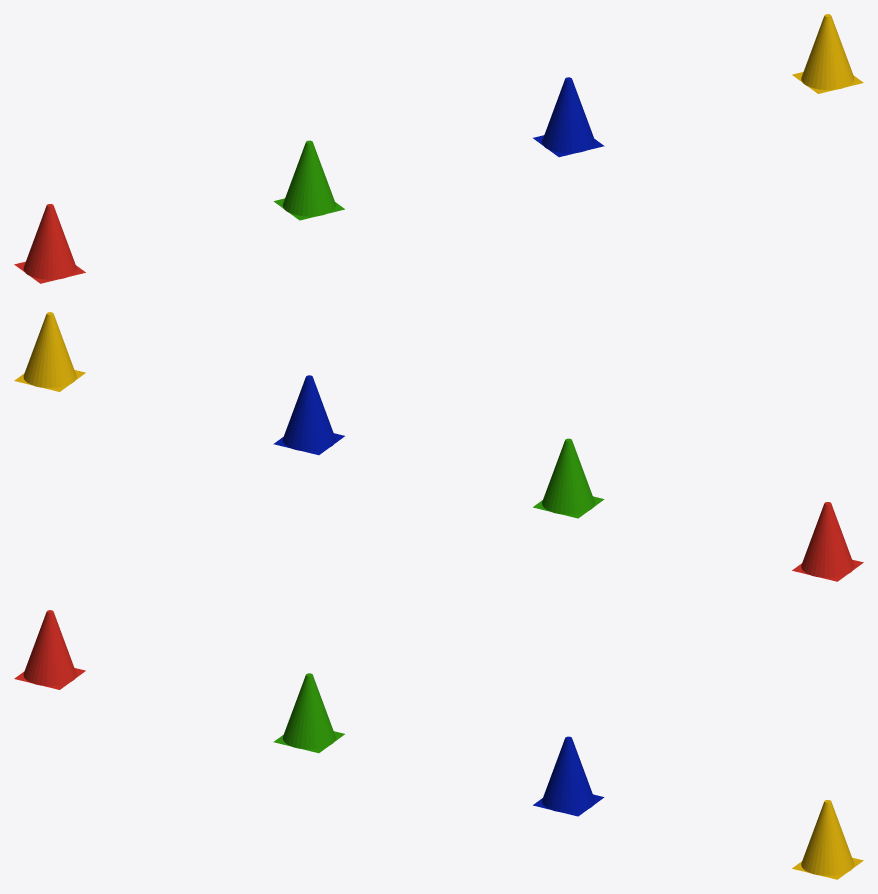
File: objetos_cones.fbx
3 views of the same model, one above another, from view 1: azimuth 30°, elevation 25°; view 2: azimuth 150°, elevation 25°; view 3: azimuth 330°, elevation 25° (orthographic).
Parts seen in each view (by area): view 1: cones; view 2: cones; view 3: cones.
Part boxes in pixels (x1,y1,x2,y2): cones: [14, 14, 863, 283]; cones: [14, 312, 863, 581]; cones: [14, 610, 863, 879].
Bounding box in the file's own units: 12266 × 902 × 689.
